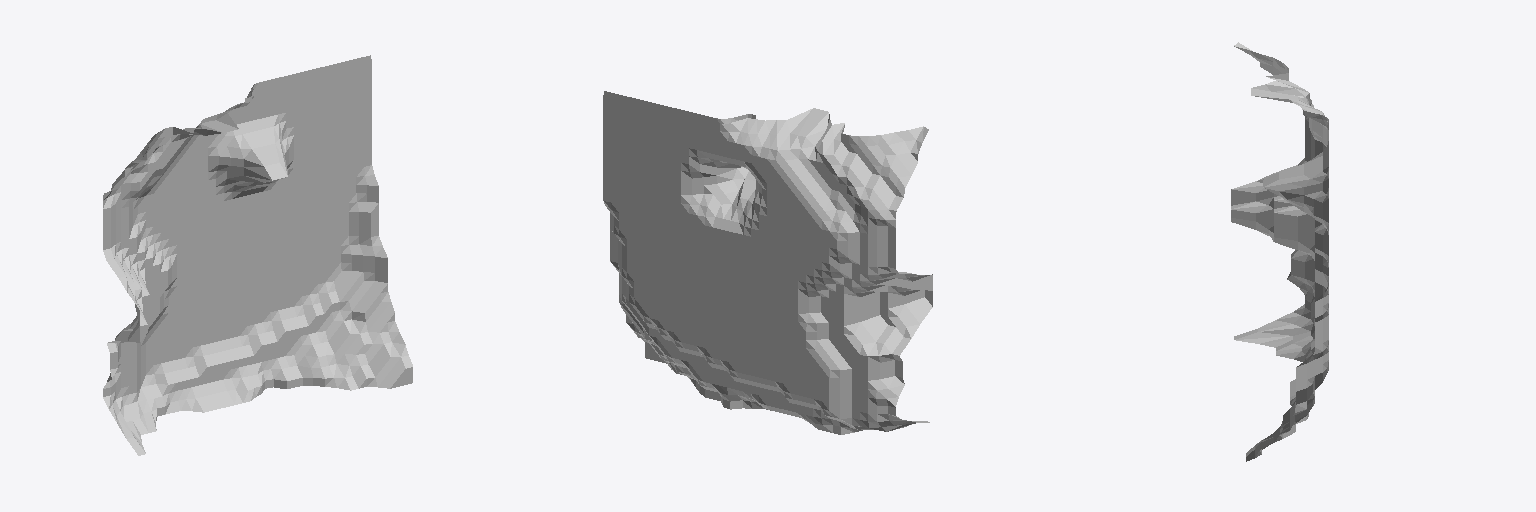
Rendered from background_test.obj.
3 renders of one model, left to right at view 1: azimuth 30°, elevation 25°; view 2: azimuth 150°, elevation 25°; view 3: azimuth 270°, elevation 25°, orthographic.
Parts seen in each view (by area): view 1: Plane.001; view 2: Plane.001; view 3: Plane.001.
Part boxes in pixels (bbox=[...]): Plane.001: bbox=[103, 55, 412, 455]; Plane.001: bbox=[603, 91, 932, 434]; Plane.001: bbox=[1231, 42, 1328, 461].
Bounding box in the file's own units: 20 × 20.27 × 6.01.